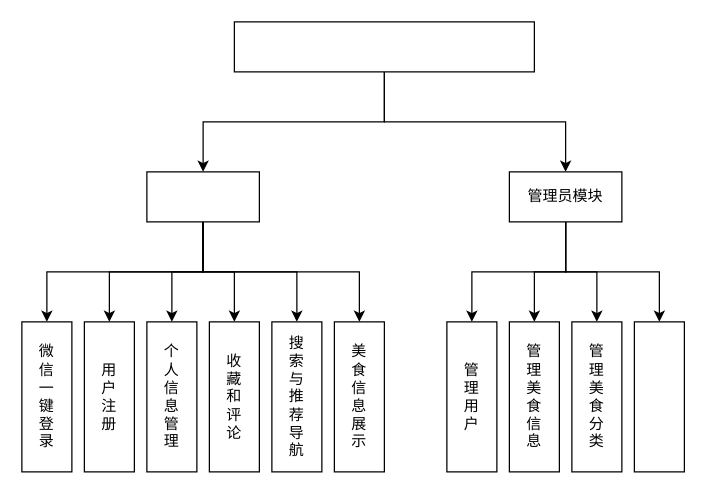
Image size: 706x504. Some labels were removed from this diagram. Each missing label, with the centre of its shape:
其 他 系 统 设 置: (658,396)
基于Python的特色美食智能推荐平台: (383,46)
用户模块: (202,196)
